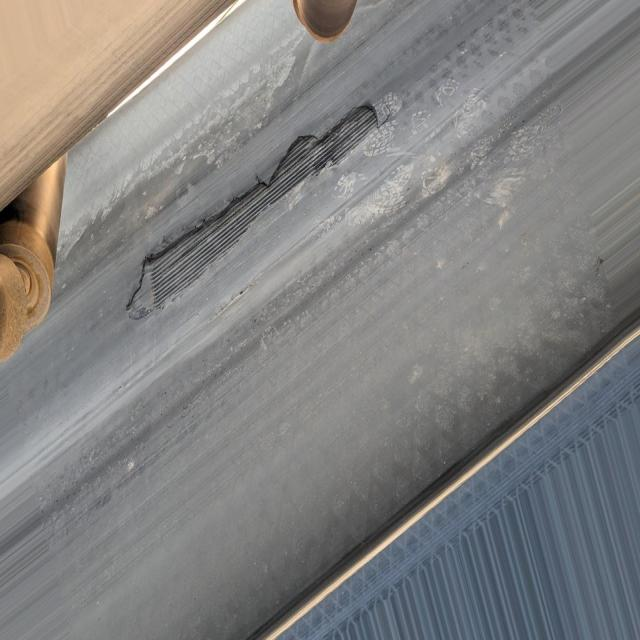Roller: (0, 147, 68, 362), (293, 0, 361, 38)
Tear: (110, 77, 393, 334)
